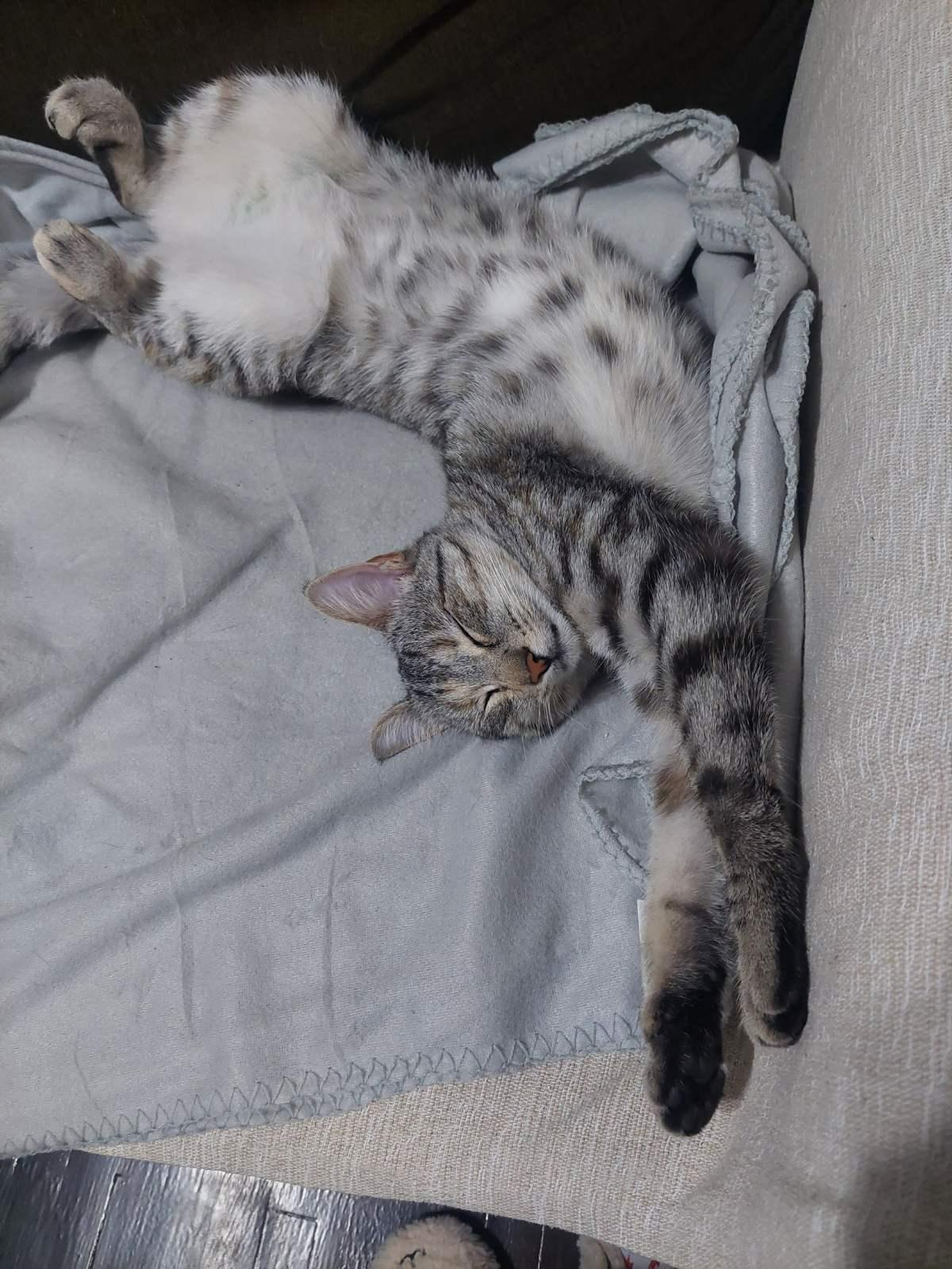macka: (40, 78, 807, 1136)
